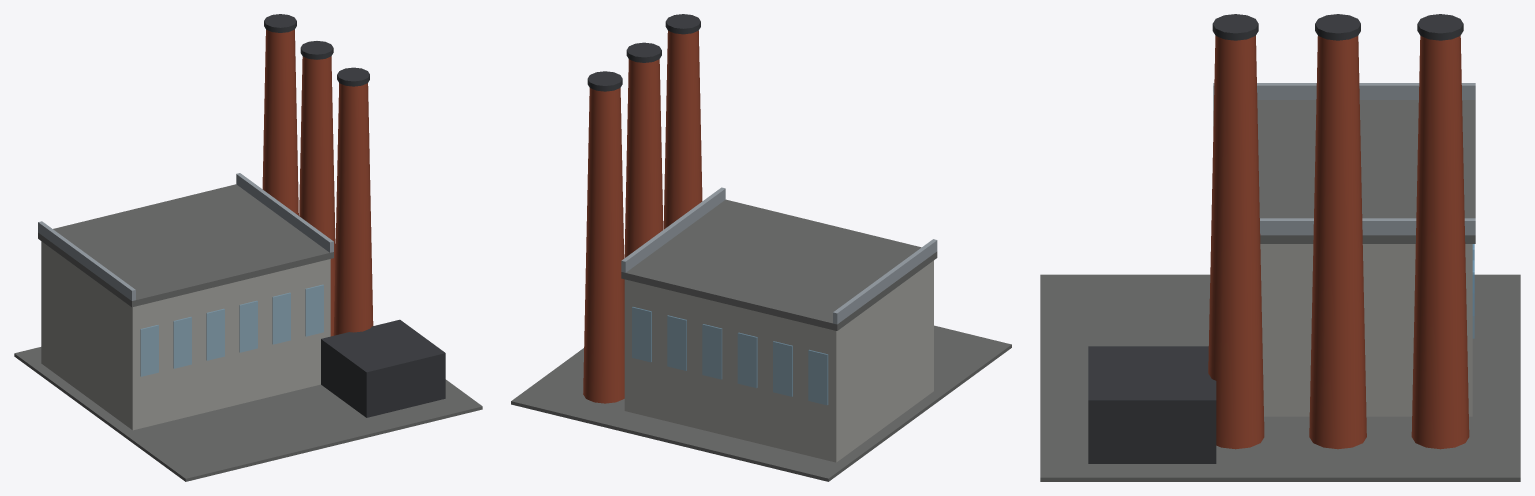
The model's file is bld_special_power_plant_a06.glb.
3 views of the same model, side by side, from view 1: azimuth 30°, elevation 25°; view 2: azimuth 150°, elevation 25°; view 3: azimuth 270°, elevation 25° (orthographic). The views are drawn at different scales.
Visible parts, largest first — view 1: body; view 2: body; view 3: body.
Boxes of the visible parts, bbox=[...] form: body: bbox=[14, 14, 482, 481]; body: bbox=[511, 14, 1011, 481]; body: bbox=[1040, 14, 1520, 481].
Size of what is drawn, in the model's own units: 15 by 14.4 by 15.
